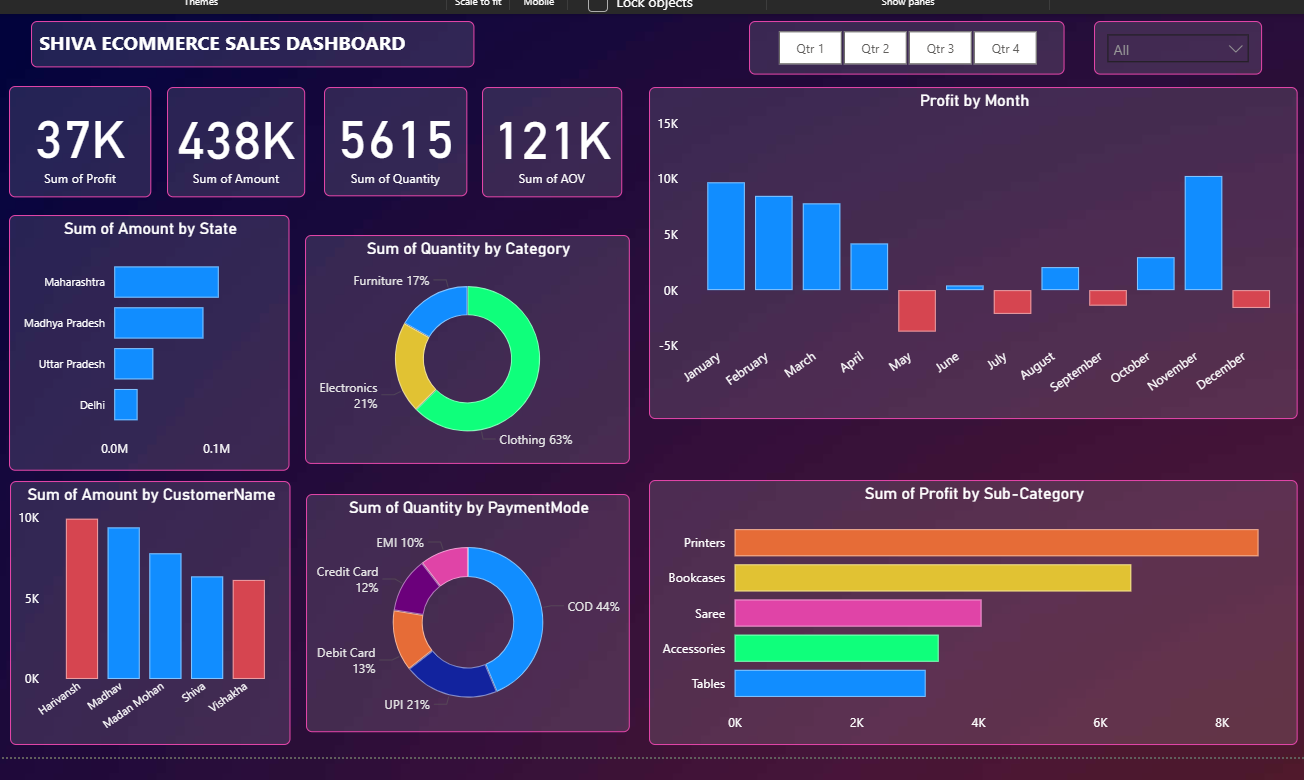

The page's visual inventory and layout, read from the dashboard file:
{"tool":"powerbi","page":{"name":"Page 1","canvas":[1280,720],"ordinal":0},"visuals":[{"type":"textbox","box":[40.7,6.8,429.6,44.6],"z":0},{"type":"columnChart","title":"Profit by Month","fields":{"Category":["Orders.Order Date.Variation.Date Hierarchy.Month"],"Y":["Sum(Details.Profit)"]},"box":[640,70.8,629.3,321.9],"z":1000},{"type":"barChart","fields":{"Category":["Details.Sub-Category"],"Y":["Sum(Details.Profit)"]},"box":[640,451.9,629.3,257],"z":2000},{"type":"donutChart","fields":{"Category":["Details.Category"],"Y":["Sum(Details.Quantity)"]},"box":[306.4,214.3,315.2,222.1],"z":3000},{"type":"card","fields":{"Values":["Sum(Details.Amount)"]},"box":[172.6,70.8,133.8,106.7],"z":4000},{"type":"card","fields":{"Values":["Sum(Details.Profit)"]},"box":[19.4,69.8,137.7,107.6],"z":5000},{"type":"card","fields":{"Values":["Sum(Details.Quantity)"]},"box":[324.8,70.8,138.7,105.7],"z":6000},{"type":"donutChart","fields":{"Category":["Details.PaymentMode","Details.Category"],"Y":["Sum(Details.Quantity)"]},"box":[307.4,465.5,314.2,230.8],"z":7000},{"type":"card","fields":{"Values":["Sum(Details.AOV)"]},"box":[478.1,70.8,135.8,106.7],"z":8000},{"type":"barChart","fields":{"Category":["Orders.State"],"Y":["Sum(Details.Amount)"]},"box":[19.4,194.9,272.5,248.2],"z":9000},{"type":"columnChart","fields":{"Category":["Orders.CustomerName"],"Y":["Sum(Details.Amount)"]},"box":[20.4,452.8,272.5,256],"z":10000},{"type":"slicer","fields":{"Values":["Orders.Order Date.Variation.Date Hierarchy.Quarter"]},"box":[737,6.8,306.4,52.4],"z":11000},{"type":"slicer","fields":{"Values":["Orders.State"]},"box":[1071.5,6.8,162.9,52.4],"z":12000}]}

Visuals, with their boxes on the page's 1280x720 design canvas (x1, y1, x2, y2). These are canvas units, not pixel positions in the 1304x780 screenshot, which may show the page scaled, cropped or inside an application window:
textbox: [x1=41, y1=7, x2=470, y2=51]
"Profit by Month" columnChart: [x1=640, y1=71, x2=1269, y2=393]
barChart - Details.Sub-Category x Sum(Details.Profit): [x1=640, y1=452, x2=1269, y2=709]
donutChart - Details.Category x Sum(Details.Quantity): [x1=306, y1=214, x2=622, y2=436]
card - Sum(Details.Amount): [x1=173, y1=71, x2=306, y2=178]
card - Sum(Details.Profit): [x1=19, y1=70, x2=157, y2=177]
card - Sum(Details.Quantity): [x1=325, y1=71, x2=464, y2=176]
donutChart - Details.PaymentMode x Details.Category: [x1=307, y1=466, x2=622, y2=696]
card - Sum(Details.AOV): [x1=478, y1=71, x2=614, y2=178]
barChart - Orders.State x Sum(Details.Amount): [x1=19, y1=195, x2=292, y2=443]
columnChart - Orders.CustomerName x Sum(Details.Amount): [x1=20, y1=453, x2=293, y2=709]
slicer - Orders.Order Date.Variation.Date Hierarchy.Quarter: [x1=737, y1=7, x2=1043, y2=59]
slicer - Orders.State: [x1=1072, y1=7, x2=1234, y2=59]
